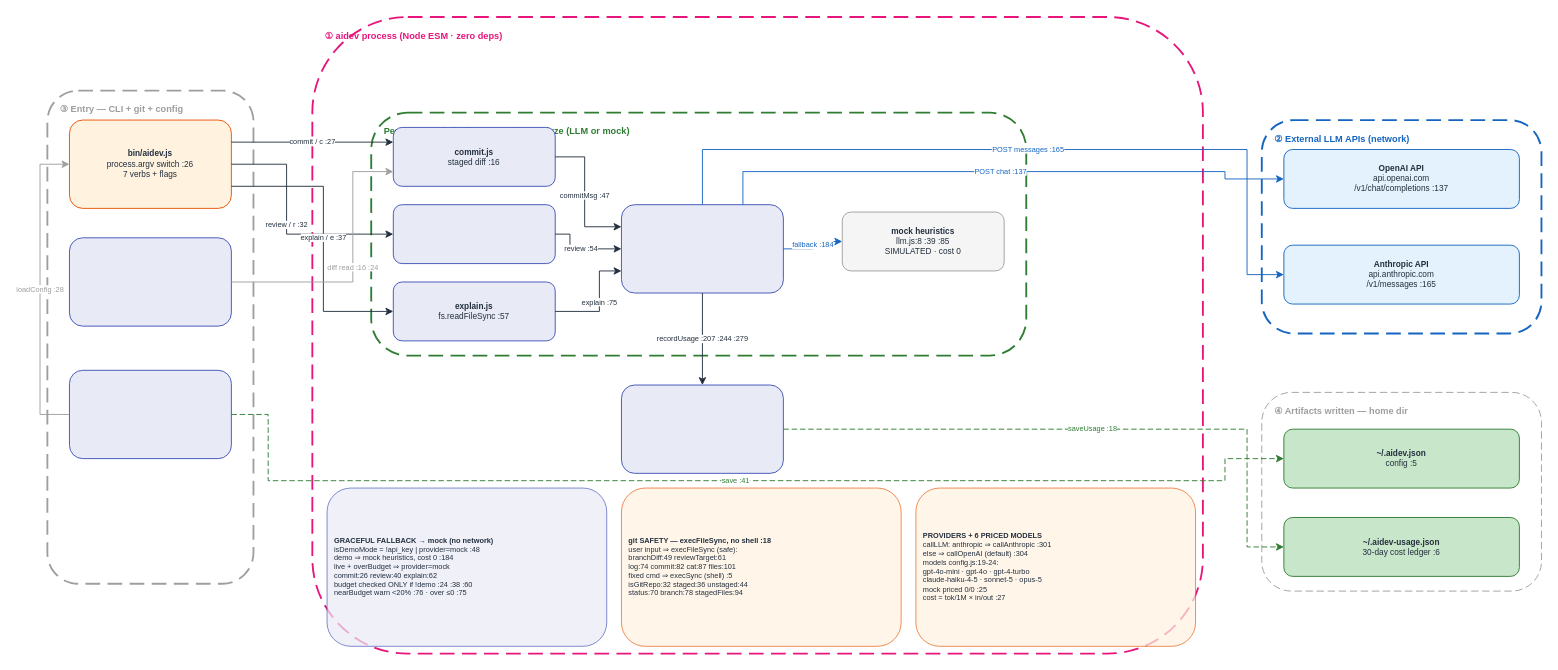
The diagram is 1558 pixels wide and 670 high, and some of its shapes have lost their labels. Each missing label, with the centre of its shape:
budget.js recordUsage :32 calculateCost :25: point 702,428
config.js ~/.aidev.json load/save isDemoMode gate :48: point 150,414
git.js diff / commit / log exec + execFile :1: point 150,281
llm.js isDemoMode? :184 callLLM dispatch :300: point 702,248
review.js diff · --json :84: point 473,234
